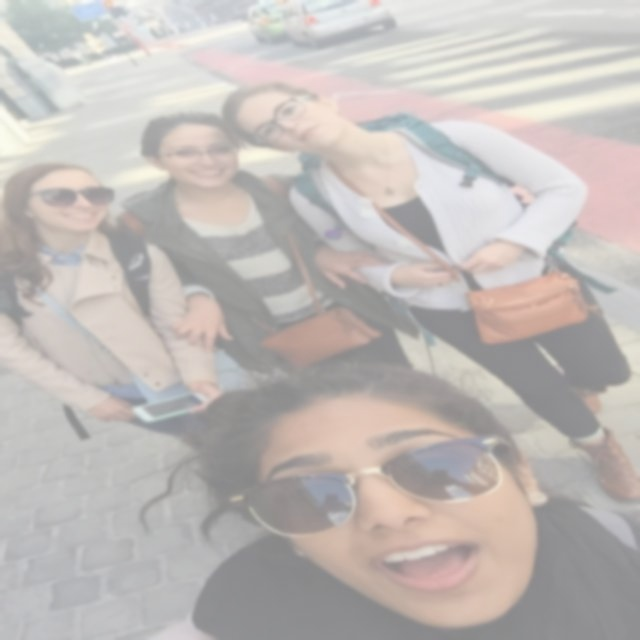pessoa: (220, 80, 640, 503), (130, 356, 640, 640), (108, 108, 424, 376), (0, 160, 230, 443)
